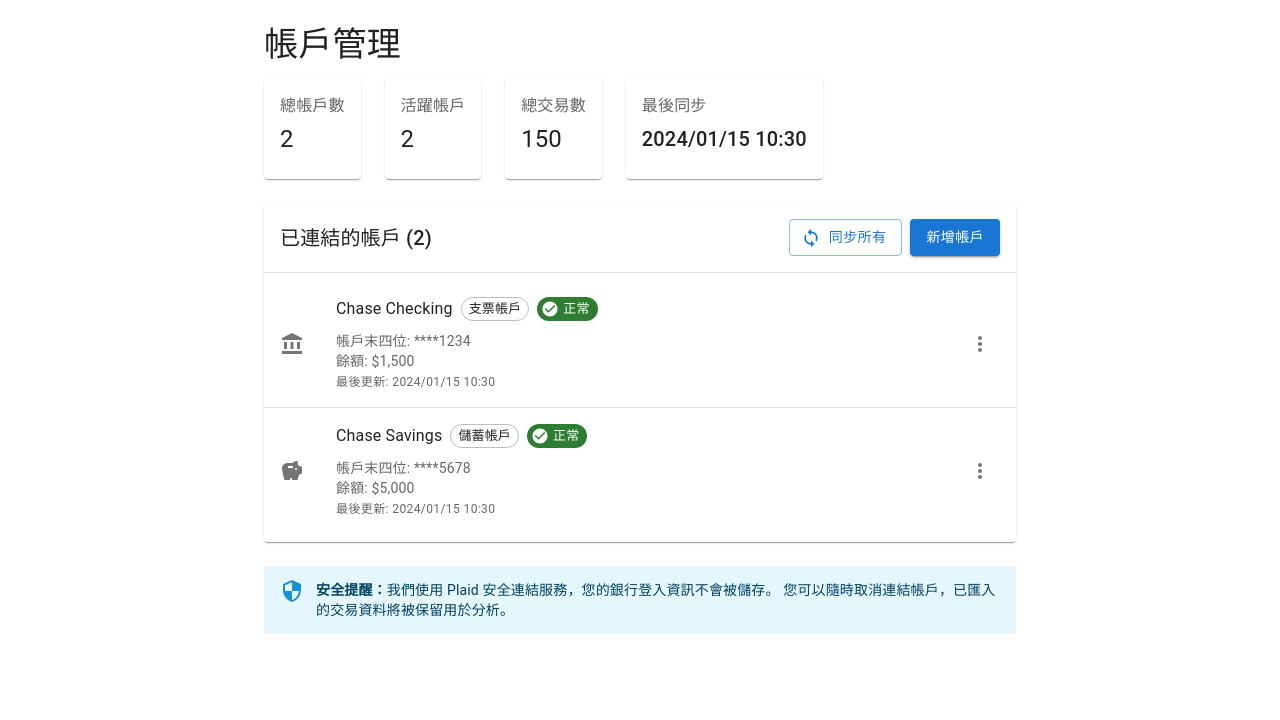
Test: AccountManagement › 帳戶操作 › 點擊新增帳戶應該開啟對話框
The width and height of the screenshot is (1280, 720).
Click the button "新增帳戶": (955,238) left=910, top=220, right=1000, bottom=256
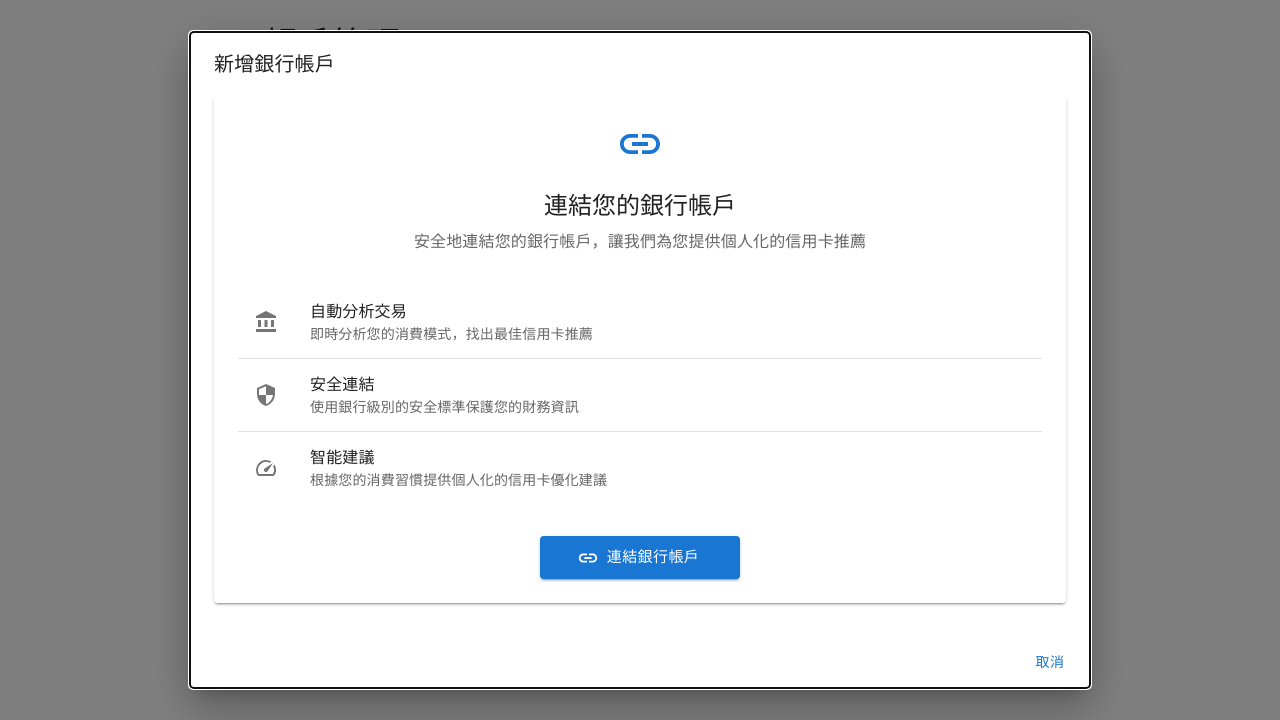
expect the heading "新增銀行帳戶" is shown: met, box left=214, top=52, right=335, bottom=76
